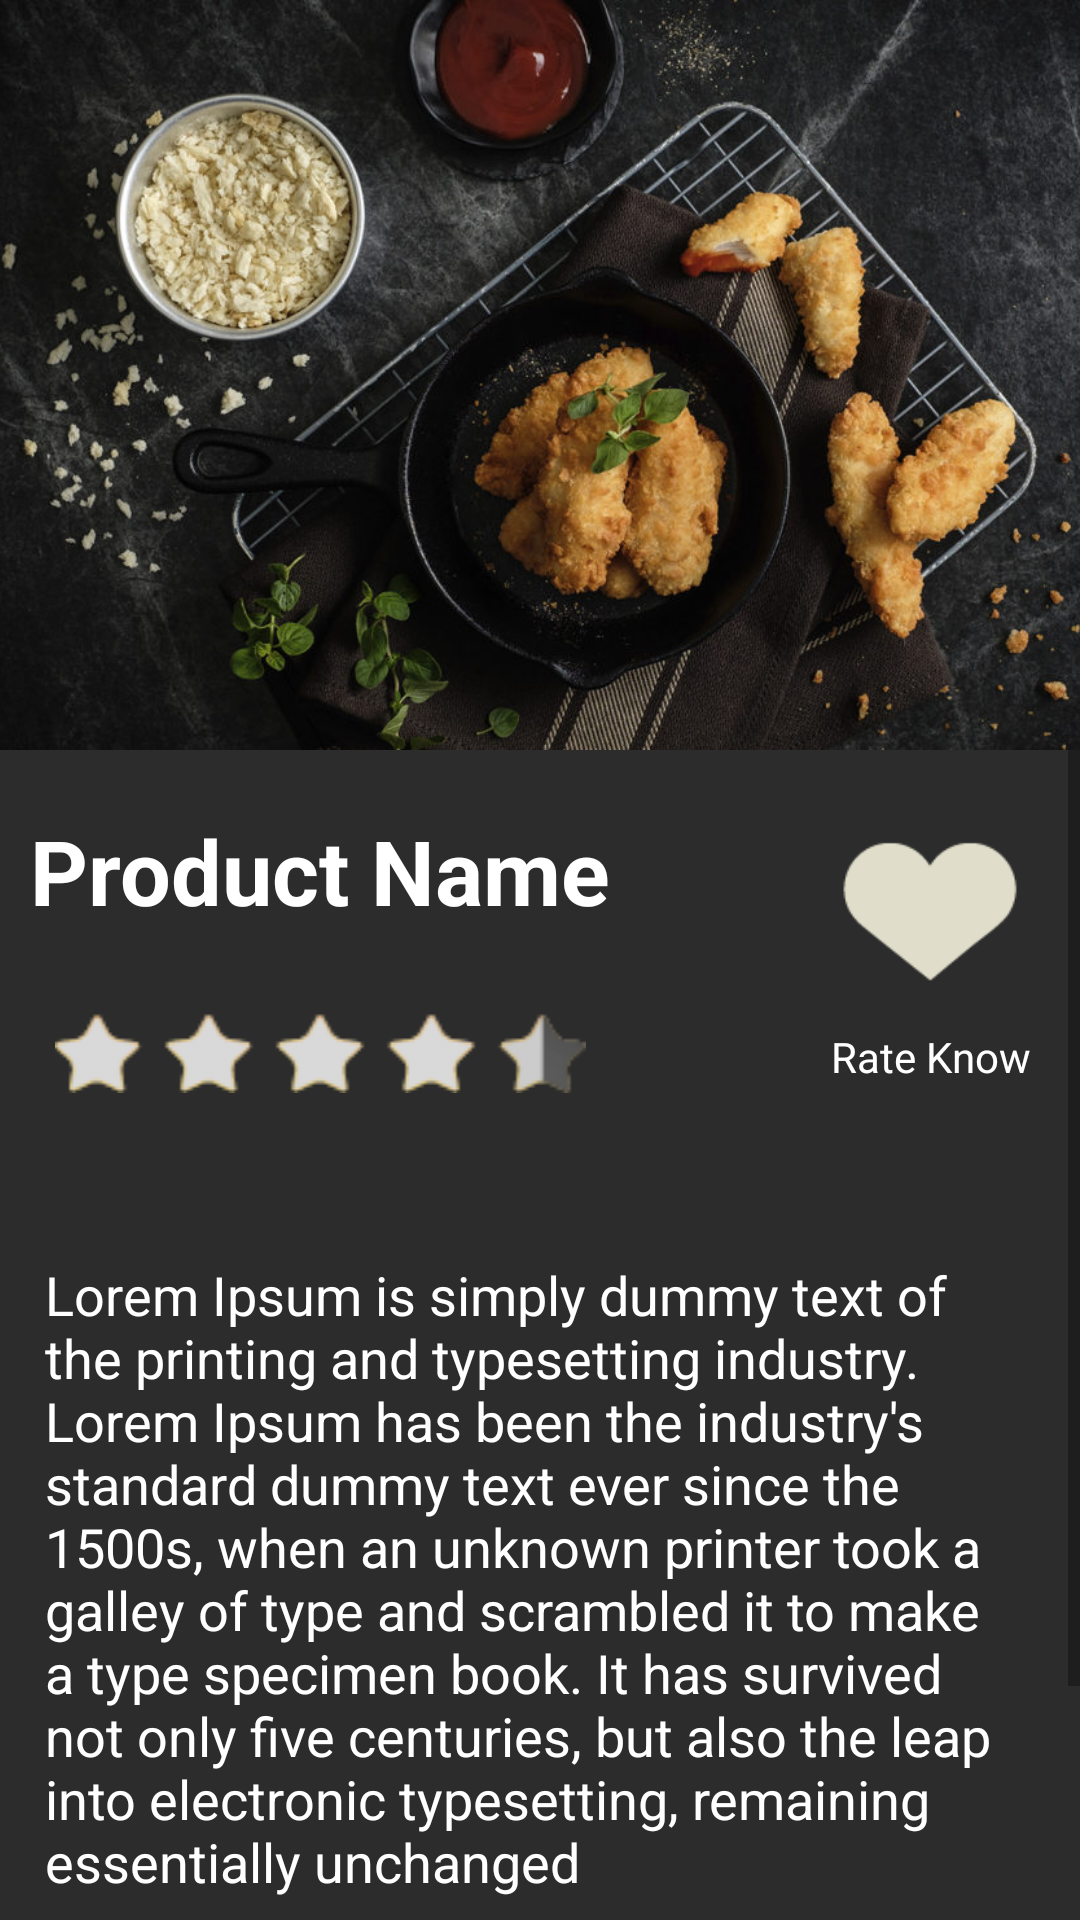

Screen size 1080px×1920px. Icon name, then its center in pixels as point (x, y):
fav: point (930, 912)
